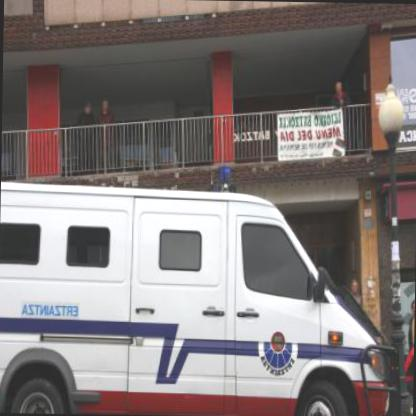truck: (0, 161, 406, 415)
